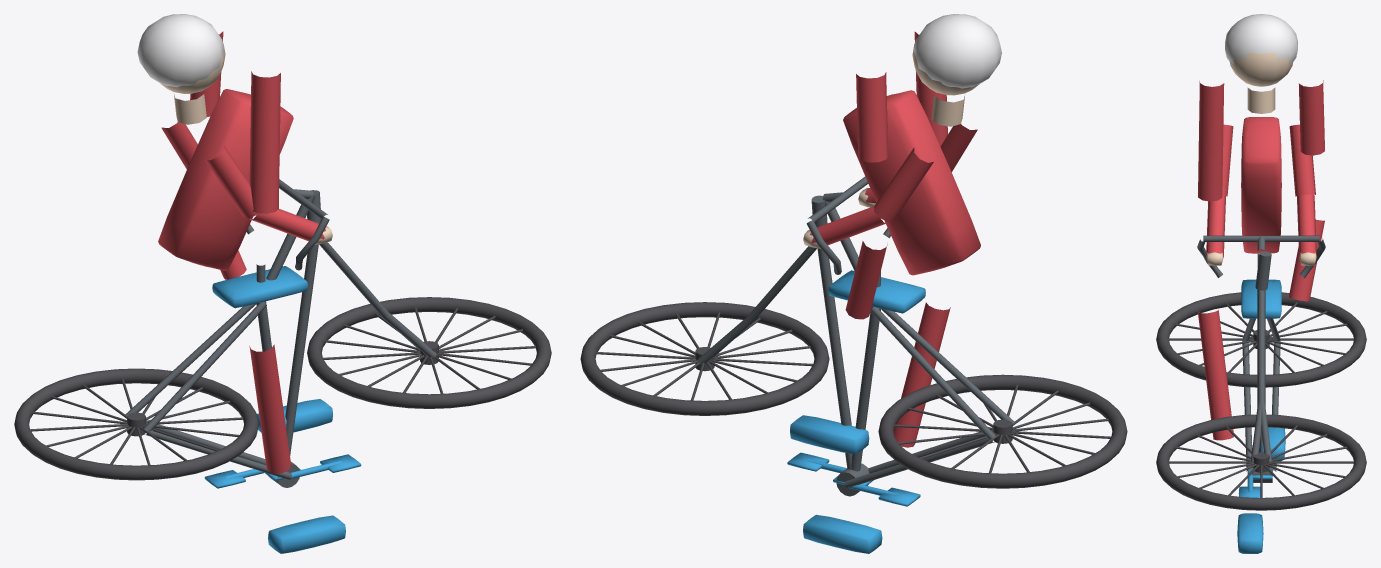
Rendered from cyclist-road.glb.
3 views of the same model, side by side, from view 1: azimuth 30°, elevation 25°; view 2: azimuth 150°, elevation 25°; view 3: azimuth 270°, elevation 25° (orthographic). The views are drawn at different scales.
Visible parts, largest first — view 1: riderBody, frame, wheelFront, wheelRear, thighR, shinR; view 2: riderBody, frame, wheelFront, wheelRear, thighL, shinR, shinL, thighR; view 3: riderBody, wheelFront, wheelRear, frame, thighR, shinR, thighL, shinL.
Boxes of the visible parts, x1=… form: riderBody: x1=137, y1=14, x2=345, y2=553; frame: x1=125, y1=179, x2=436, y2=488; wheelFront: x1=307, y1=297, x2=551, y2=408; wheelRear: x1=14, y1=368, x2=258, y2=480; thighR: x1=249, y1=71, x2=280, y2=213; shinR: x1=249, y1=344, x2=291, y2=473; riderBody: x1=790, y1=14, x2=1001, y2=553; frame: x1=697, y1=176, x2=1014, y2=506; wheelFront: x1=580, y1=302, x2=829, y2=415; wheelRear: x1=878, y1=374, x2=1127, y2=488; thighL: x1=856, y1=72, x2=888, y2=162; shinR: x1=893, y1=302, x2=950, y2=447; shinL: x1=845, y1=241, x2=887, y2=319; thighR: x1=914, y1=31, x2=947, y2=146; riderBody: x1=1206, y1=14, x2=1316, y2=553; wheelFront: x1=1156, y1=414, x2=1366, y2=510; wheelRear: x1=1156, y1=292, x2=1366, y2=387; frame: x1=1197, y1=235, x2=1325, y2=497; thighR: x1=1198, y1=81, x2=1224, y2=201; shinR: x1=1198, y1=310, x2=1233, y2=440; thighL: x1=1298, y1=80, x2=1324, y2=155; shinL: x1=1289, y1=219, x2=1324, y2=301.
Size of the model in its own units: 1.72 by 1.79 by 0.724.
